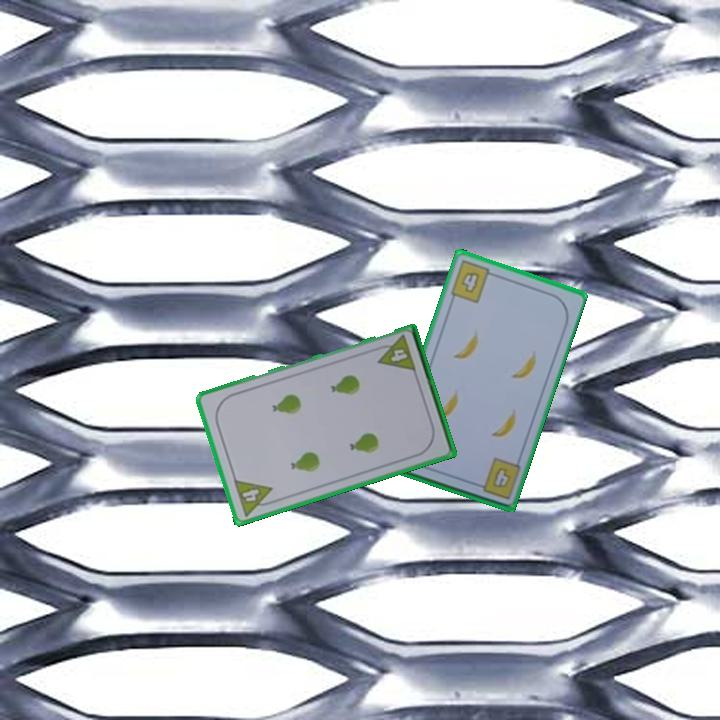4b: (447, 257, 499, 306), (471, 454, 524, 502)
4p: (230, 476, 279, 519), (371, 332, 419, 375)
